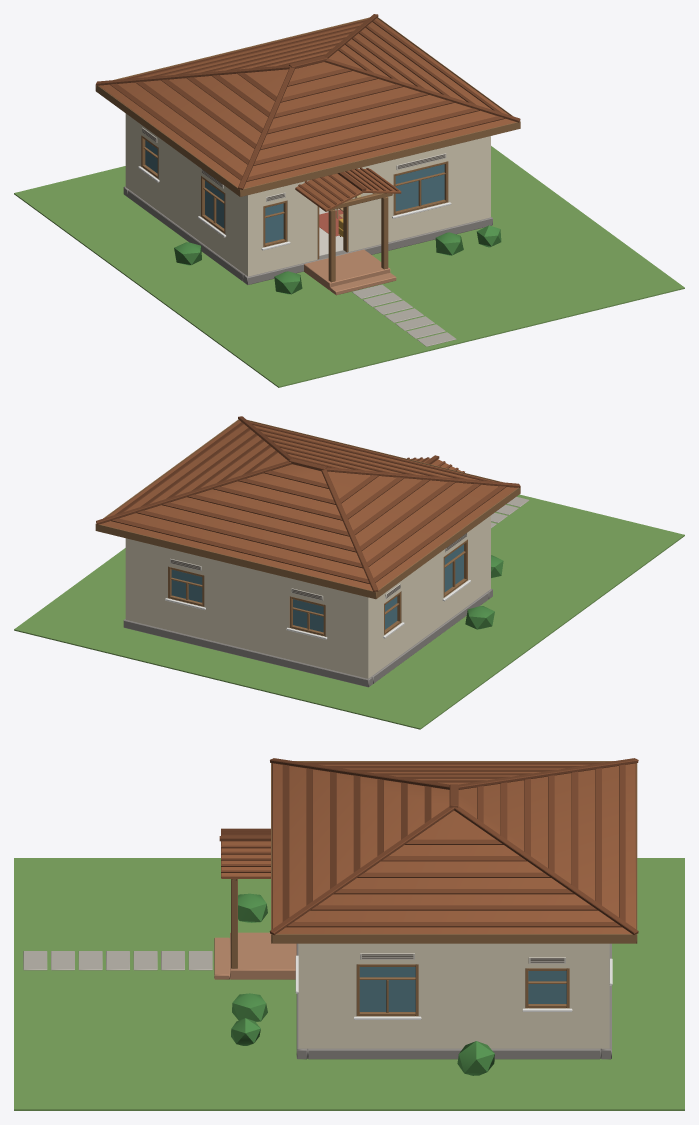
Rendered from Rumah Dosen Baru.fbx.
The picture shows the model from 3 angles, top to bottom: view 1: azimuth 30°, elevation 25°; view 2: azimuth 150°, elevation 25°; view 3: azimuth 270°, elevation 25°; orthographic projection. The views are drawn at different scales.
Visible parts, largest first — view 1: ENV_Ground, Roof_Main_Hip_Shell, Structure_Walls_Exterior, Roof_Tile_Courses, Roof_Fascia_Boards, Roof_Ridge_Hip_Caps, Window_Glass, Structure_Foundation, Structure_Terrace_Floor_Step, Window_Frames_Kusen, ENV_Path_Stones, ENV_Bushes (+3 smaller); view 2: ENV_Ground, Roof_Main_Hip_Shell, Structure_Walls_Exterior, Roof_Tile_Courses, Roof_Fascia_Boards, Structure_Foundation, Roof_Ridge_Hip_Caps, Window_Glass, Window_Frames_Kusen, ENV_Bushes, Detail_Vent_Frames; view 3: ENV_Ground, Roof_Main_Hip_Shell, Structure_Walls_Exterior, Roof_Tile_Courses, Roof_Ridge_Hip_Caps, Roof_Fascia_Boards, Structure_Foundation, Window_Glass, ENV_Path_Stones, Structure_Terrace_Floor_Step, ENV_Bushes, Window_Frames_Kusen (+5 smaller).
Part boxes in pixels (left/top/right/bottom): ENV_Ground: left=14, top=146, right=684, bottom=387; Roof_Main_Hip_Shell: left=99, top=18, right=516, bottom=188; Structure_Walls_Exterior: left=125, top=113, right=490, bottom=276; Roof_Tile_Courses: left=110, top=20, right=505, bottom=181; Roof_Fascia_Boards: left=95, top=17, right=520, bottom=196; Roof_Ridge_Hip_Caps: left=96, top=14, right=520, bottom=189; Window_Glass: left=145, top=140, right=444, bottom=242; Structure_Foundation: left=123, top=186, right=492, bottom=284; Structure_Terrace_Floor_Step: left=304, top=249, right=396, bottom=295; Window_Frames_Kusen: left=141, top=135, right=448, bottom=247; ENV_Path_Stones: left=352, top=284, right=456, bottom=346; ENV_Bushes: left=174, top=225, right=501, bottom=294; ENV_Ground: left=14, top=494, right=684, bottom=729; Roof_Main_Hip_Shell: left=100, top=420, right=517, bottom=590; Structure_Walls_Exterior: left=125, top=515, right=490, bottom=678; Roof_Tile_Courses: left=111, top=422, right=505, bottom=583; Roof_Fascia_Boards: left=95, top=419, right=520, bottom=599; Structure_Foundation: left=123, top=588, right=492, bottom=687; Roof_Ridge_Hip_Caps: left=96, top=416, right=520, bottom=591; Window_Glass: left=171, top=544, right=463, bottom=632; Window_Frames_Kusen: left=168, top=539, right=467, bottom=636; ENV_Bushes: left=465, top=555, right=503, bottom=629; Detail_Vent_Frames: left=170, top=533, right=467, bottom=600; ENV_Ground: left=14, top=858, right=684, bottom=1110; Roof_Main_Hip_Shell: left=272, top=762, right=636, bottom=933; Structure_Walls_Exterior: left=298, top=943, right=609, bottom=1048; Roof_Tile_Courses: left=282, top=762, right=625, bottom=927; Roof_Ridge_Hip_Caps: left=269, top=758, right=638, bottom=935; Roof_Fascia_Boards: left=271, top=761, right=637, bottom=943; Structure_Foundation: left=296, top=943, right=611, bottom=1059; Window_Glass: left=359, top=967, right=566, bottom=1011; ENV_Path_Stones: left=23, top=951, right=212, bottom=970; Structure_Terrace_Floor_Step: left=214, top=932, right=296, bottom=979; ENV_Bushes: left=231, top=893, right=494, bottom=1075; Window_Frames_Kusen: left=356, top=964, right=569, bottom=1016.
Bounding box in the file's own units: 1339 × 476 × 1511.
